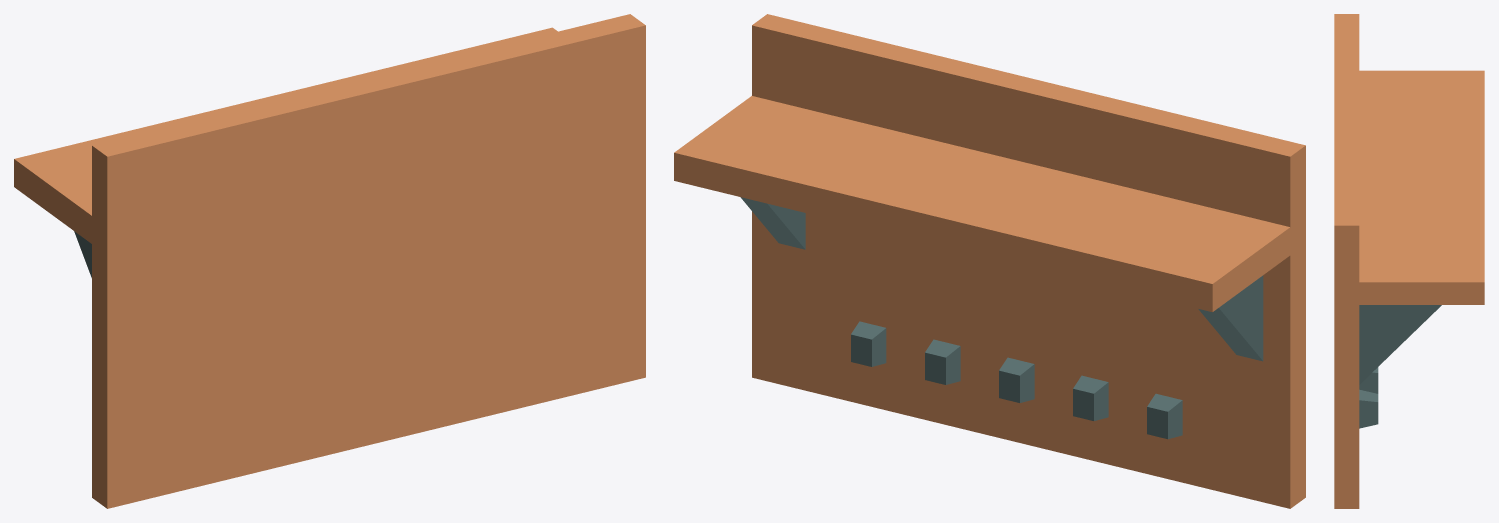
Rendered from coatRack.fbx.
3 views of the same model, side by side, from view 1: azimuth 30°, elevation 25°; view 2: azimuth 150°, elevation 25°; view 3: azimuth 270°, elevation 25° (orthographic). The views are drawn at different scales.
Parts seen in each view (by area): view 1: coatRack; view 2: coatRack; view 3: coatRack.
Boxes of the visible parts, box(x1,y1,x2,y2) form: coatRack: box(14, 14, 645, 508); coatRack: box(674, 14, 1305, 508); coatRack: box(1334, 14, 1484, 508).
Bounding box in the file's own units: 4.48 × 2.8 × 1.34.
